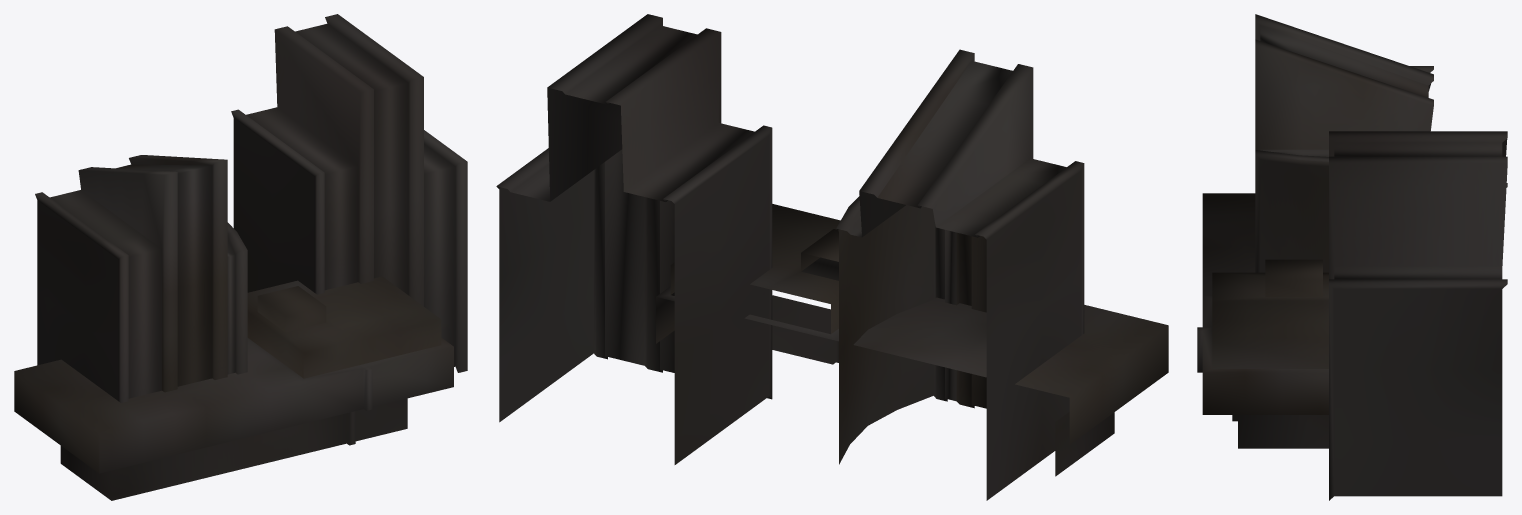
The picture shows the model from 3 angles, left to right: view 1: azimuth 30°, elevation 25°; view 2: azimuth 150°, elevation 25°; view 3: azimuth 270°, elevation 25°; orthographic projection. The views are drawn at different scales.
Visible parts, largest first — view 1: Box001; view 2: Box001; view 3: Box001.
Boxes of the visible parts, x1=… form: Box001: x1=14, y1=14, x2=467, y2=500; Box001: x1=496, y1=14, x2=1168, y2=500; Box001: x1=1197, y1=14, x2=1507, y2=500.
Size of the model in its own units: 257 by 174 by 155.
1 material, 1 textured.
